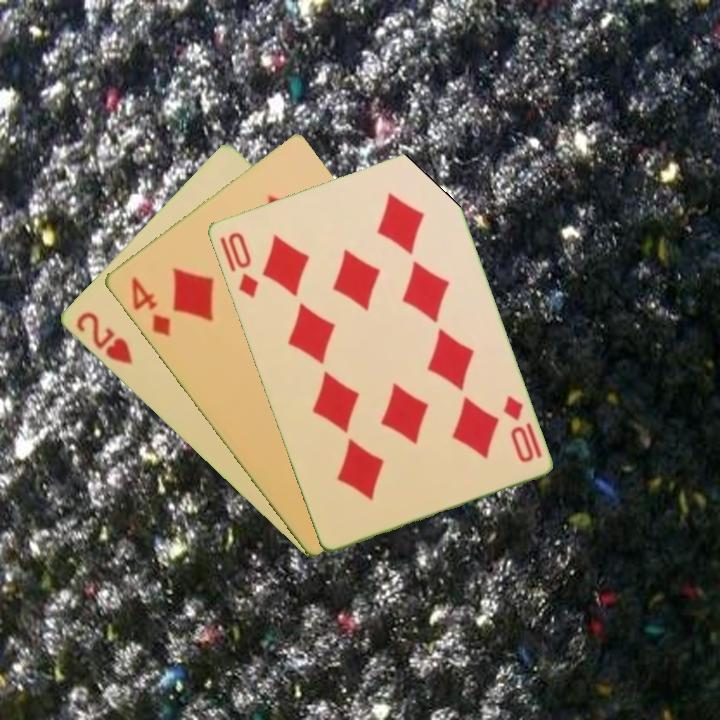10d: (215, 228, 261, 301), (499, 391, 536, 465)
2h: (71, 308, 135, 368)
4d: (126, 272, 173, 339)
